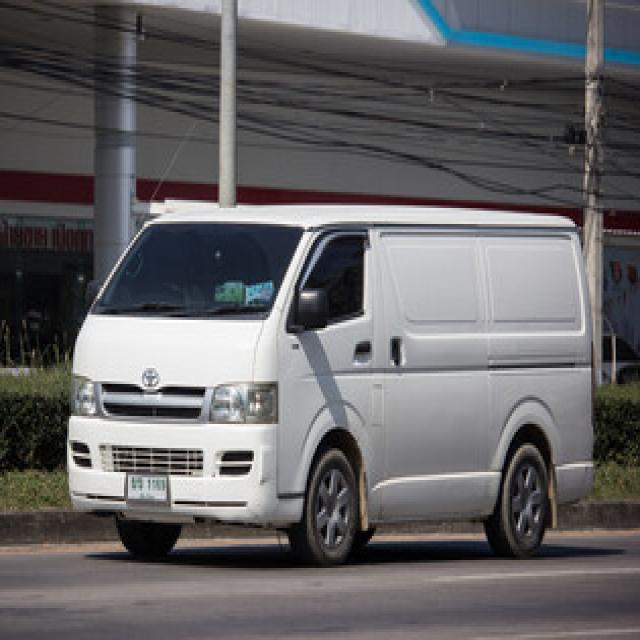van: (67, 205, 591, 565)
